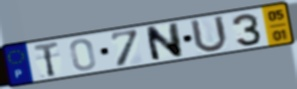0: (69, 38, 98, 72)
3: (231, 12, 264, 47)
7: (110, 27, 140, 68)
N: (143, 21, 185, 64)
T: (32, 39, 61, 78)
U: (188, 14, 230, 54)
